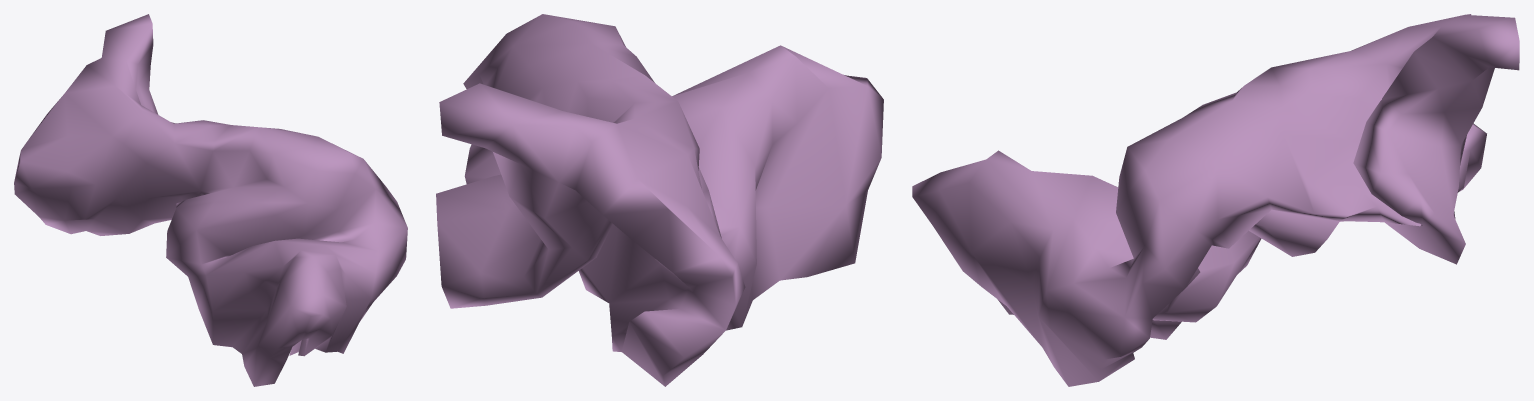
The picture shows the model from 3 angles, left to right: view 1: azimuth 30°, elevation 25°; view 2: azimuth 150°, elevation 25°; view 3: azimuth 270°, elevation 25°; orthographic projection. The views are drawn at different scales.
Parts seen in each view (by area): view 1: 右侧枕上回; view 2: 右侧枕上回; view 3: 右侧枕上回.
Part boxes in pixels (bbox=[...]): 右侧枕上回: bbox=[14, 14, 407, 386]; 右侧枕上回: bbox=[436, 14, 883, 386]; 右侧枕上回: bbox=[912, 14, 1519, 386].
Bounding box in the file's own units: 0.0435 × 0.035 × 0.0585.
